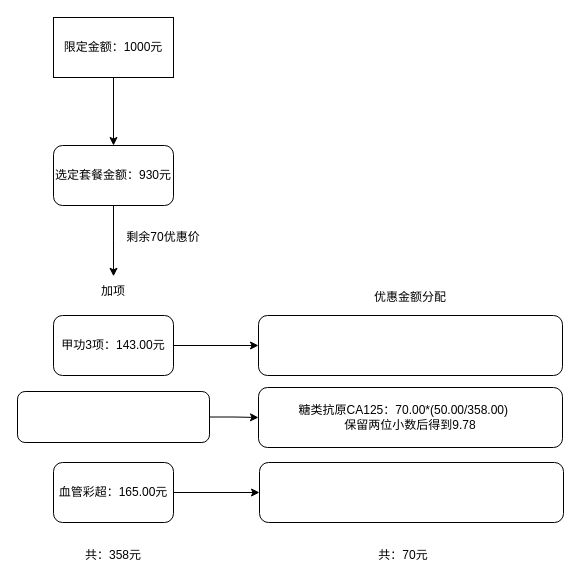
This 581x588 diagram has some shape labels left out. Each missing label, with the box of its shape:
甲功3项：70.00*(143.00/358.00) 保留两位小数后得到27.96: (258, 314, 562, 376)
糖类抗原CA125：50.00元: (16, 390, 210, 442)
血管彩超：70.00*(165.00/358.00) 保留两位小数后得到32.26: (258, 462, 564, 522)
